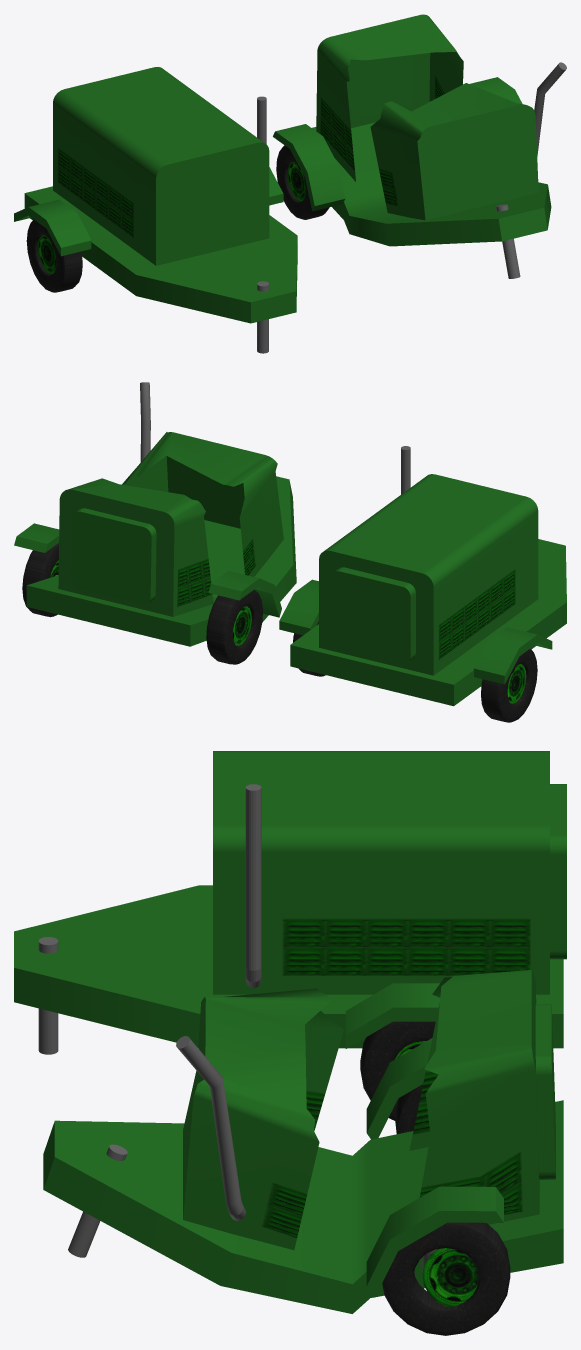
File: Generators.fbx
3 renders of one model, top to bottom at view 1: azimuth 30°, elevation 25°; view 2: azimuth 150°, elevation 25°; view 3: azimuth 270°, elevation 25°, orthographic. The views are drawn at different scales.
Visible parts, largest first — view 1: group1, pCube1, pCube2, pCylinder6, pCube3, pCylinder8, pCylinder7; view 2: group1, pCube1, pCube2, pCube5, pCylinder6, pCube3, pCube4, pCylinder7; view 3: group1, pCube1, pCube2, pCube4, pCylinder7, pCube5, pCylinder3, pCylinder8.
Boxes of the visible parts, x1,y1,x2,y2 form: group1: [273, 14, 566, 278]; pCube1: [53, 67, 269, 265]; pCube2: [24, 186, 297, 323]; pCylinder6: [26, 220, 82, 292]; pCube3: [14, 199, 91, 256]; pCylinder8: [257, 281, 268, 353]; pCylinder7: [257, 96, 266, 144]; group1: [14, 382, 296, 664]; pCube1: [319, 474, 538, 675]; pCube2: [290, 539, 566, 706]; pCube5: [331, 567, 415, 663]; pCylinder6: [481, 648, 537, 722]; pCube3: [473, 627, 552, 684]; pCube4: [279, 579, 318, 635]; pCylinder7: [401, 446, 410, 494]; group1: [43, 970, 563, 1335]; pCube1: [213, 751, 549, 994]; pCube2: [14, 885, 563, 1048]; pCube4: [345, 983, 440, 1048]; pCylinder7: [245, 784, 261, 988]; pCube5: [550, 784, 566, 959]; pCylinder3: [360, 1021, 435, 1120]; pCylinder8: [38, 937, 58, 1054].
Bounding box in the file's own units: 14.07 × 5.33 × 8.56.
Materials: 2 (2 with a texture image).
